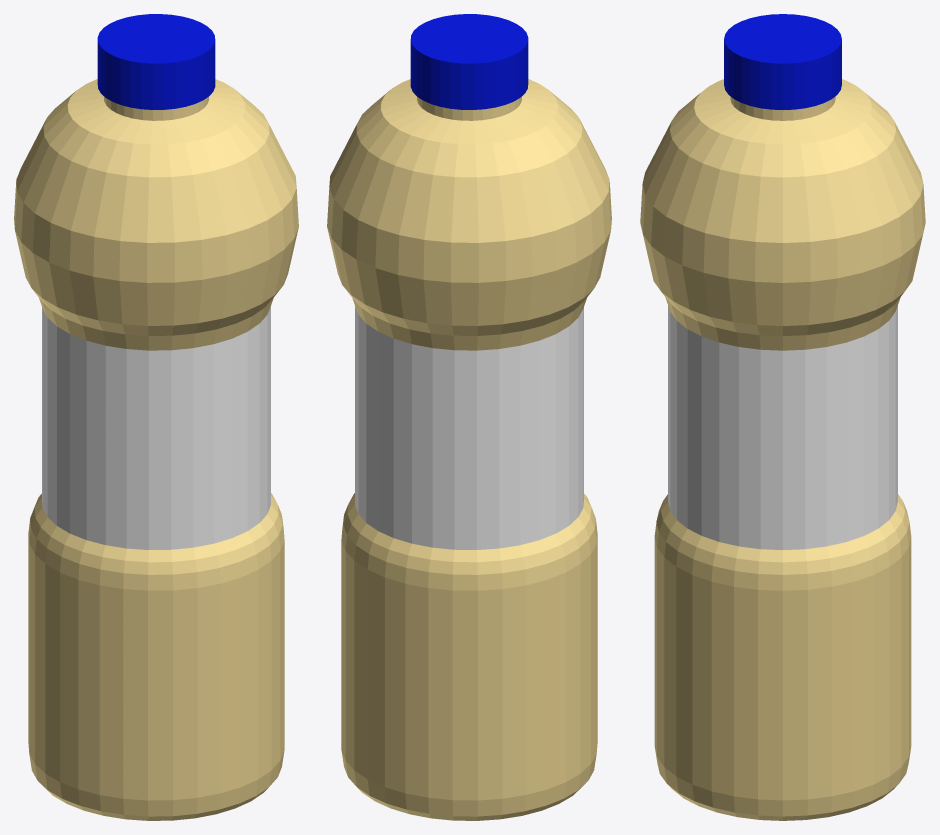
Rendered from Botella_Low_Poly.fbx.
3 renders of one model, left to right at view 1: azimuth 30°, elevation 25°; view 2: azimuth 150°, elevation 25°; view 3: azimuth 270°, elevation 25°, orthographic.
Parts seen in each view (by area): view 1: Cylinder; view 2: Cylinder; view 3: Cylinder.
Boxes of the visible parts, bbox=[...] form: Cylinder: bbox=[14, 14, 298, 820]; Cylinder: bbox=[327, 14, 611, 820]; Cylinder: bbox=[640, 14, 925, 820].
Bounding box in the file's own units: 30.69 × 86.79 × 30.69.
